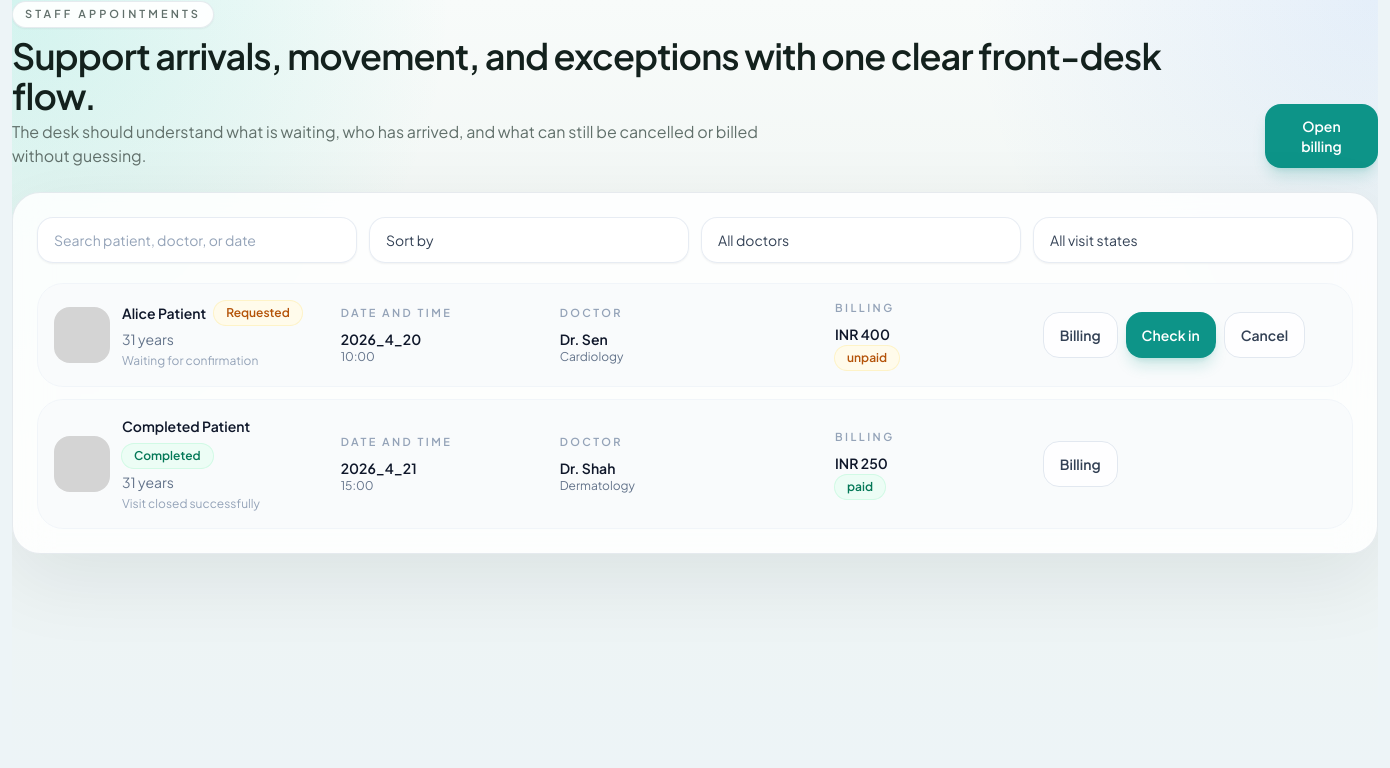
StaffAppointments › loads appointments and routes actionable visits into billing or check-in
This screenshot has width=1390, height=768.
Click the button "Billing" next to "400": click(1080, 335) [1043,312,1118,358]
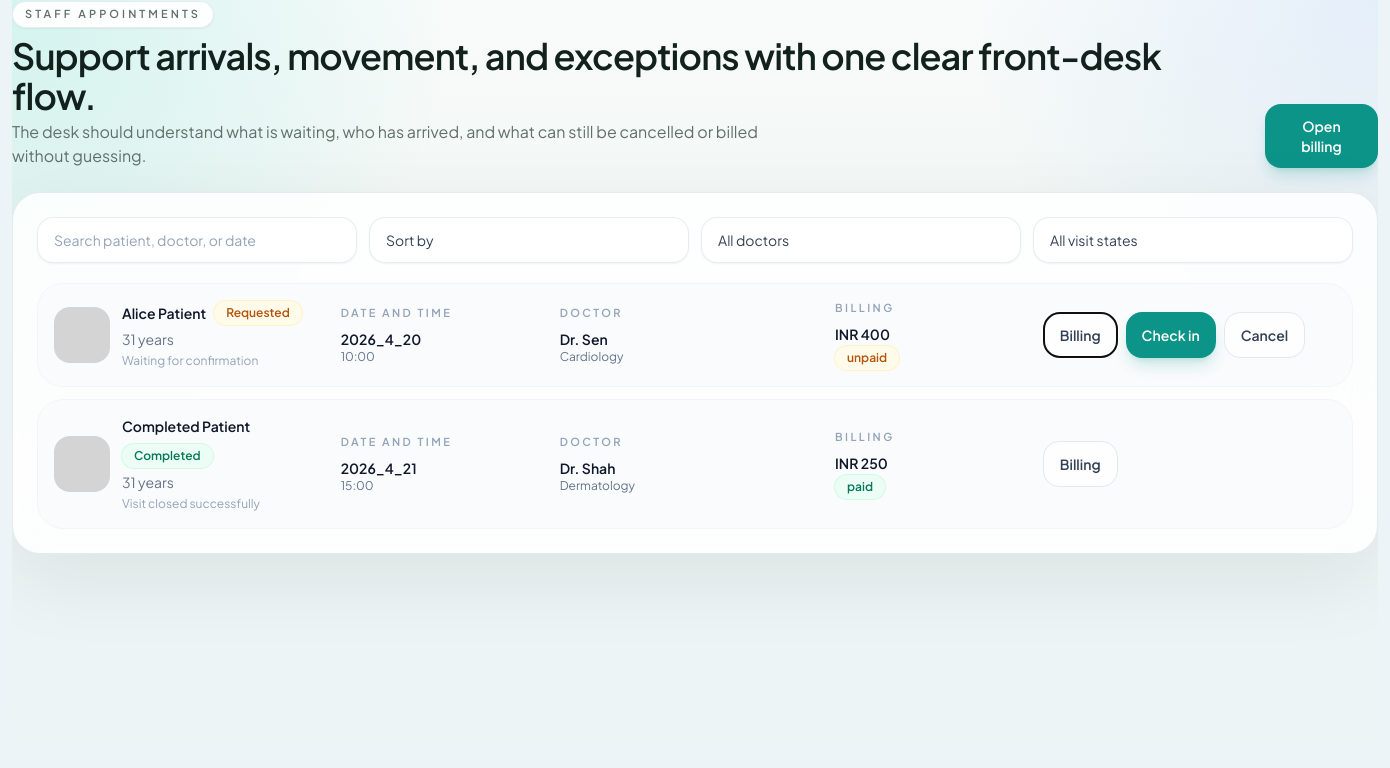
Click the button "Check in": click(1171, 335) [1126,312,1216,358]
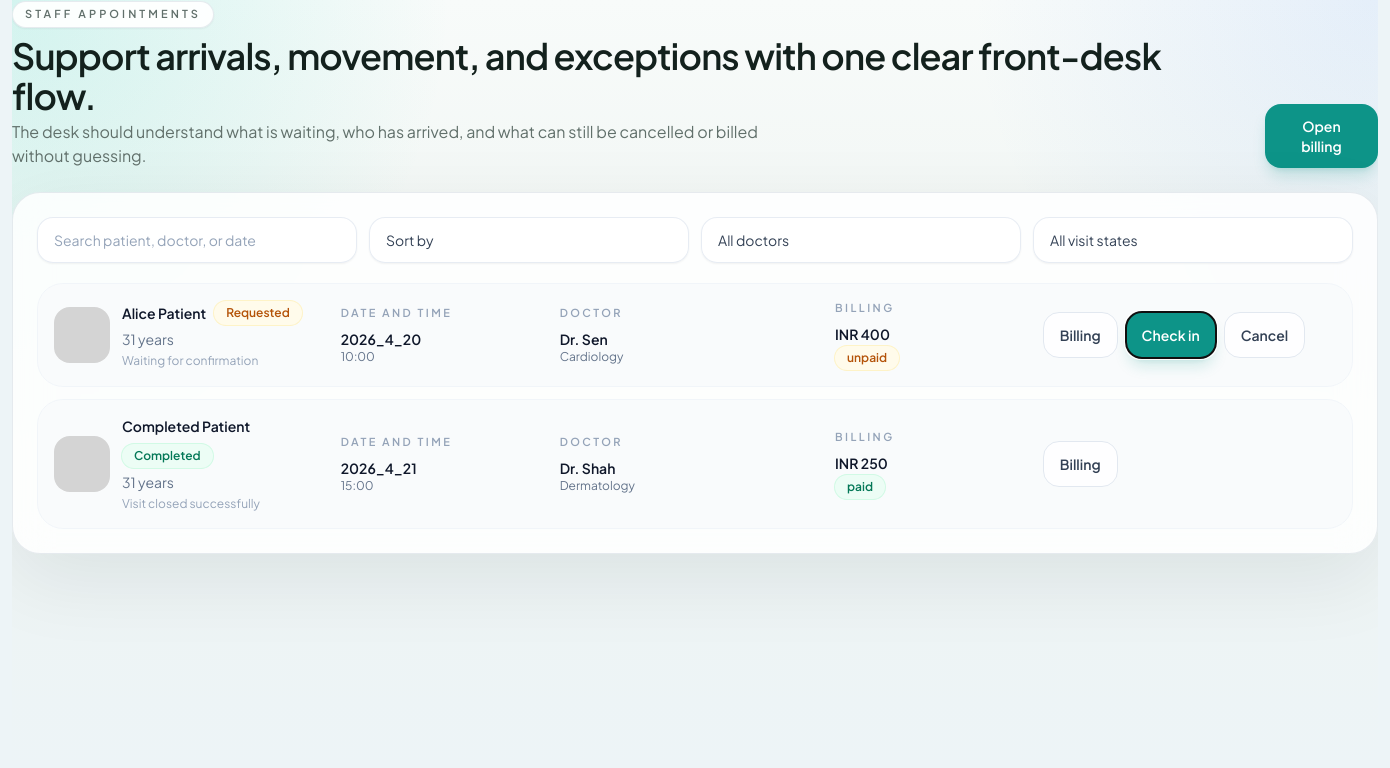
In the field with placeholder "Search patient, doctor, or date": (197, 240) [37,216,357,262], type "Completed Patient"
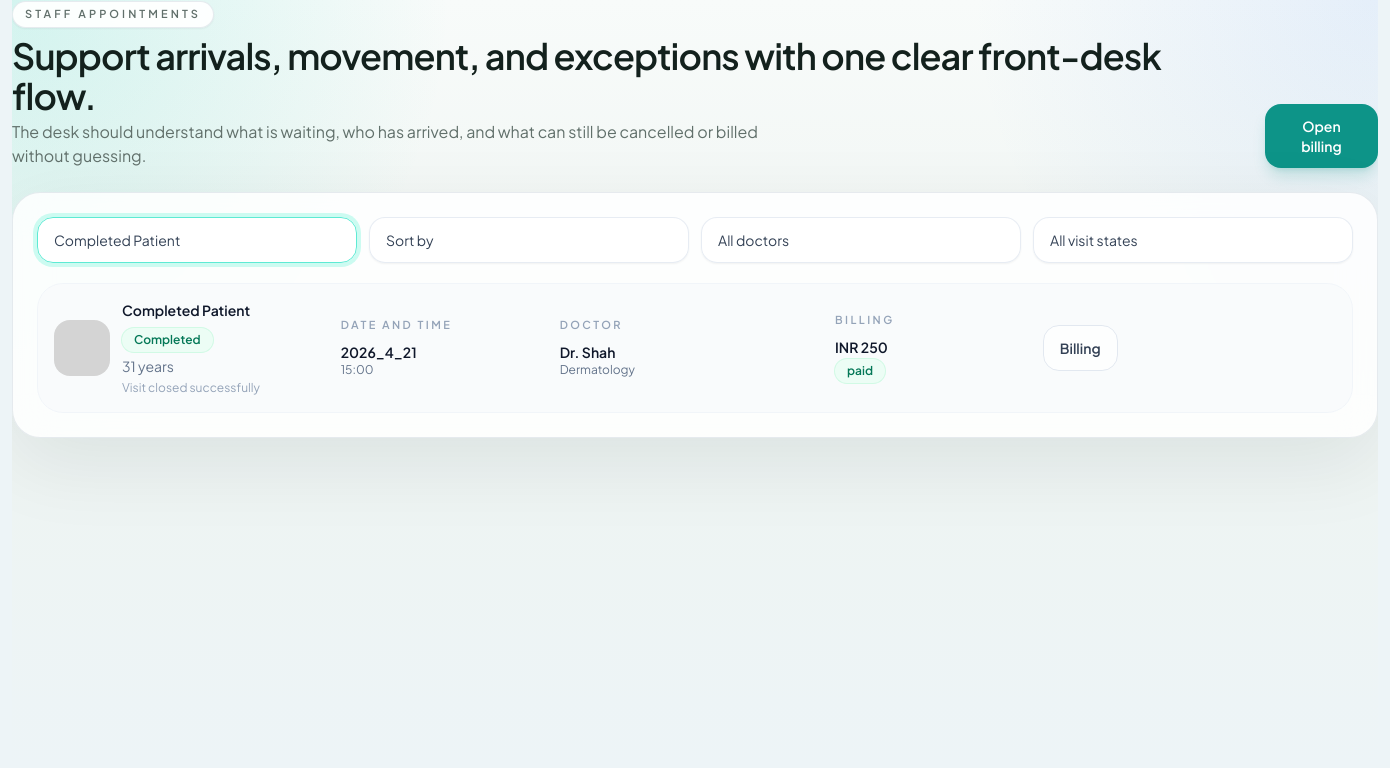
Expected: the button "Billing" is shown, [1043,324,1118,370]
Expected: the button "Check in" is gone
